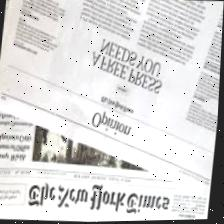paper: (0, 0, 224, 209), (0, 126, 191, 224)
